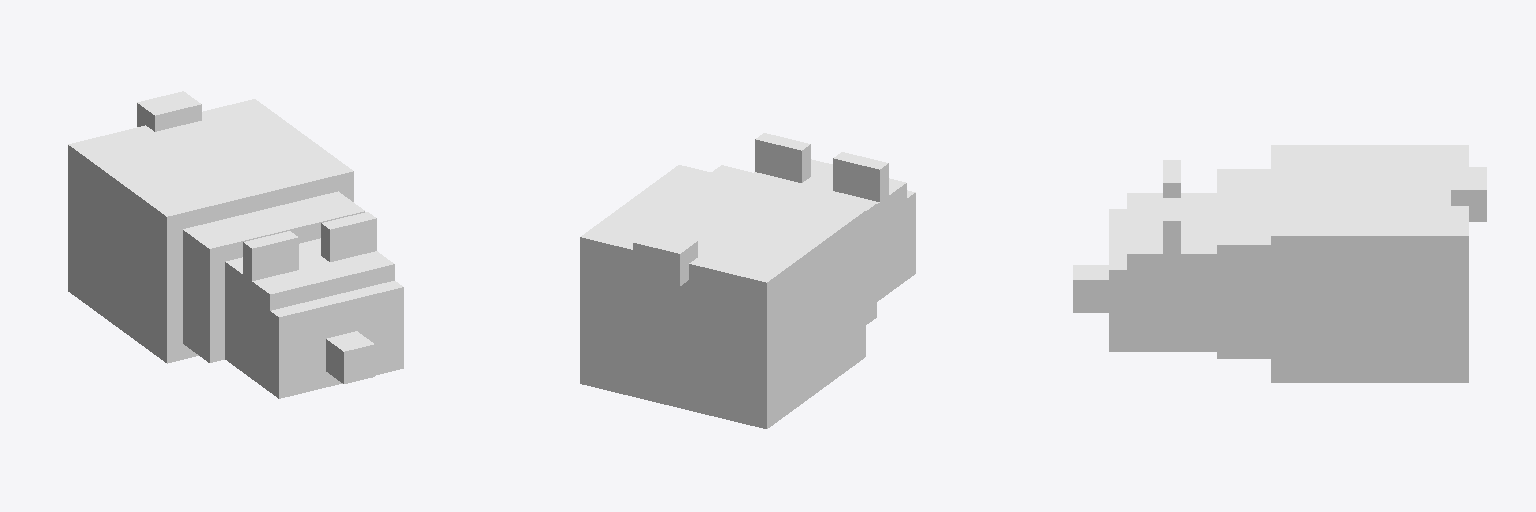
Rendered from bearBody.vox.obj.
3 views of the same model, side by side, from view 1: azimuth 30°, elevation 25°; view 2: azimuth 150°, elevation 25°; view 3: azimuth 270°, elevation 25° (orthographic).
Parts seen in each view (by area): view 1: object 1; view 2: object 1; view 3: object 1.
Boxes of the visible parts, box(x1,y1,x2,y2) form: object 1: box(68, 91, 403, 398); object 1: box(580, 133, 915, 428); object 1: box(1073, 145, 1486, 382).
Bounding box in the file's own units: 1.2 × 1 × 2.3.